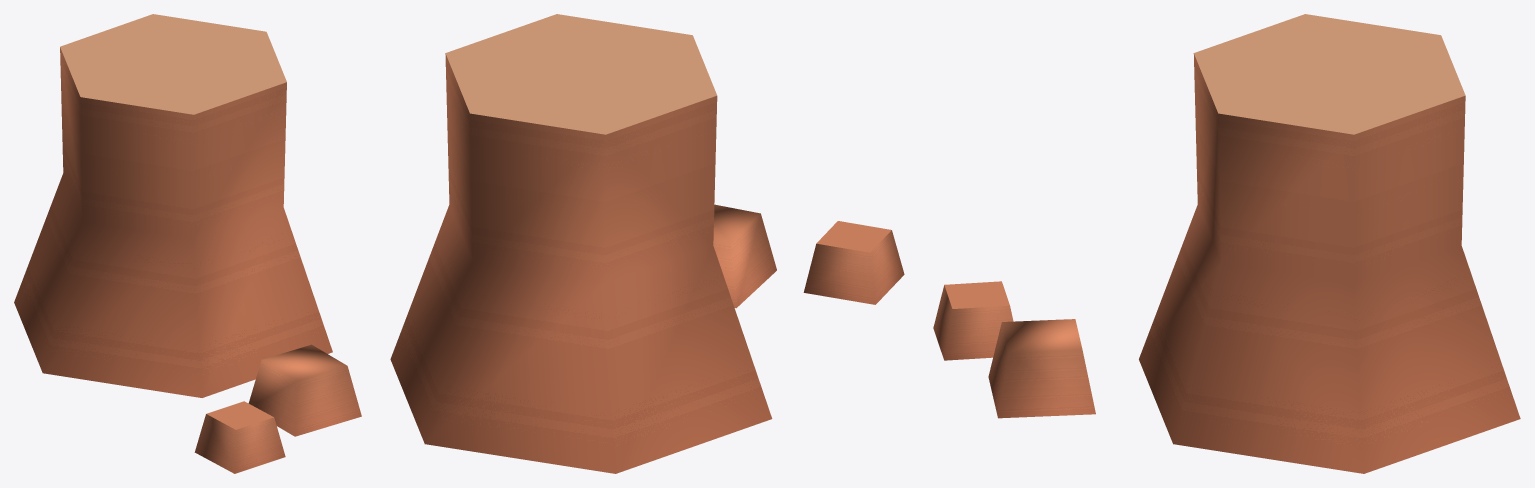
Rendered from rocks-sand-c.005.glb.
3 views of the same model, side by side, from view 1: azimuth 30°, elevation 25°; view 2: azimuth 150°, elevation 25°; view 3: azimuth 270°, elevation 25° (orthographic). The views are drawn at different scales.
Visible parts, largest first — view 1: rocks-sand-c.005; view 2: rocks-sand-c.005; view 3: rocks-sand-c.005.
Boxes of the visible parts, bbox=[...] form: rocks-sand-c.005: bbox=[14, 14, 361, 473]; rocks-sand-c.005: bbox=[390, 14, 904, 473]; rocks-sand-c.005: bbox=[933, 14, 1520, 473].
Bounding box in the file's own units: 0.4789 × 0.4145 × 0.7009.
Materials: 1 (1 with a texture image).
